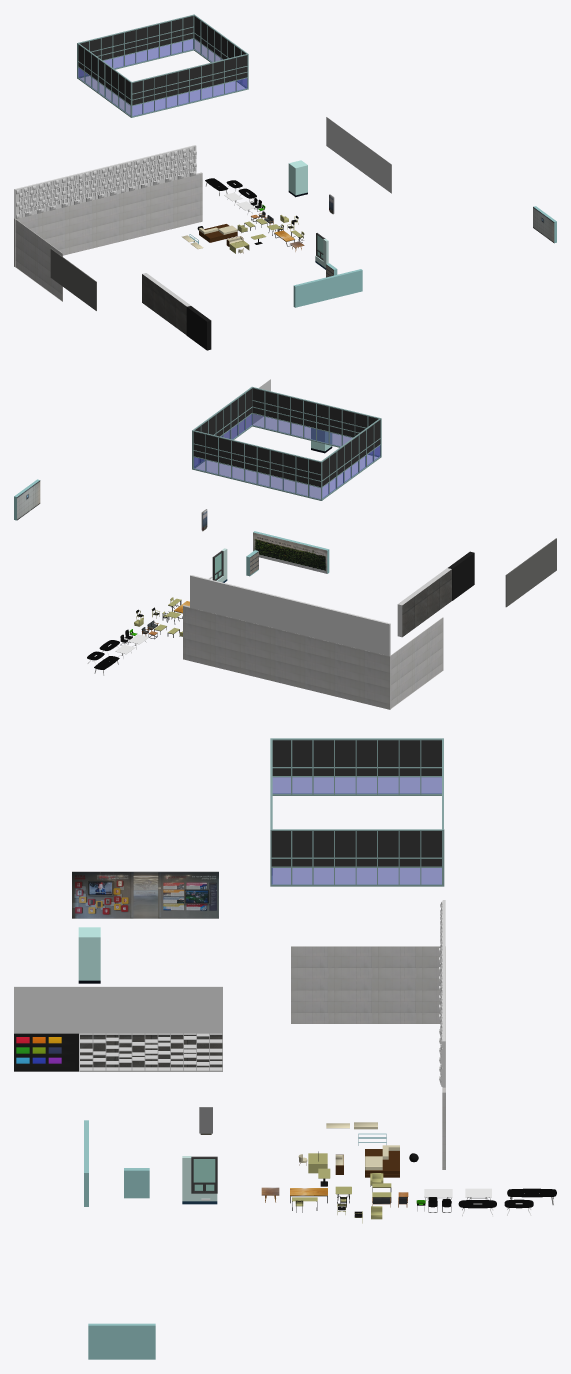
The model's file is Prop.fbx.
3 views of the same model, one above another, from view 1: azimuth 30°, elevation 25°; view 2: azimuth 150°, elevation 25°; view 3: azimuth 270°, elevation 25° (orthographic). The views are drawn at different scales.
Visible parts, largest first — view 1: Out_Glass, White_Wall, 3D_White_Wall, 3F_Wall, Plant_Wall, Bookcase_A, Sign_B, Bookcase_B, Pillar_A, Casier_A, Sofa_A; view 2: White_Wall, Out_Glass, 3D_White_Wall, Bookcase_A, Plant_Wall, Sign_B, Bookcase_B, Casier_A, 2F_Window_Wall, Pillar_A, 3F_Wall; view 3: Out_Glass, White_Wall, 3F_Wall, Sign_B, Bookcase_A, Bookcase_B, Casier_A, 2F_Window_Wall, Pillar_A, 3D_White_Wall, Sofa_A, Casier_B.
Part boxes in pixels (bbox=[...]): Out_Glass: bbox=[77, 14, 248, 117]; White_Wall: bbox=[14, 172, 202, 301]; 3D_White_Wall: bbox=[14, 145, 196, 218]; 3F_Wall: bbox=[326, 117, 391, 193]; Plant_Wall: bbox=[293, 269, 362, 307]; Bookcase_A: bbox=[142, 273, 190, 334]; Sign_B: bbox=[50, 248, 96, 310]; Bookcase_B: bbox=[186, 306, 211, 350]; Pillar_A: bbox=[288, 160, 307, 197]; Casier_A: bbox=[533, 206, 556, 243]; Sofa_A: bbox=[199, 224, 237, 242]; White_Wall: bbox=[183, 605, 443, 709]; Out_Glass: bbox=[192, 386, 381, 500]; 3D_White_Wall: bbox=[190, 575, 390, 656]; Bookcase_A: bbox=[397, 568, 451, 637]; Plant_Wall: bbox=[253, 531, 329, 573]; Sign_B: bbox=[505, 538, 556, 607]; Bookcase_B: bbox=[448, 551, 474, 600]; Casier_A: bbox=[14, 479, 40, 520]; 2F_Window_Wall: bbox=[212, 548, 227, 582]; Pillar_A: bbox=[311, 428, 332, 453]; 3F_Wall: bbox=[199, 379, 270, 462]; Out_Glass: bbox=[270, 738, 444, 886]; White_Wall: bbox=[291, 946, 445, 1169]; 3F_Wall: bbox=[14, 986, 222, 1033]; Sign_B: bbox=[72, 871, 218, 918]; Bookcase_A: bbox=[79, 1033, 222, 1071]; Bookcase_B: bbox=[14, 1033, 78, 1071]; Casier_A: bbox=[88, 1323, 155, 1359]; 2F_Window_Wall: bbox=[182, 1156, 217, 1204]; Pillar_A: bbox=[78, 927, 100, 983]; 3D_White_Wall: bbox=[439, 900, 445, 1087]; Sofa_A: bbox=[365, 1145, 399, 1177]; Casier_B: bbox=[124, 1168, 149, 1198].
Bounding box in the file's own units: 53.89 × 23.12 × 34.01.
